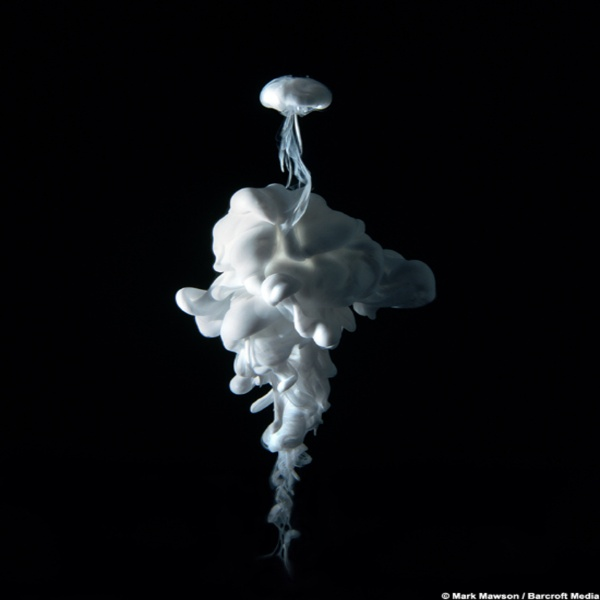Jellyfish: (176, 59, 415, 547)
